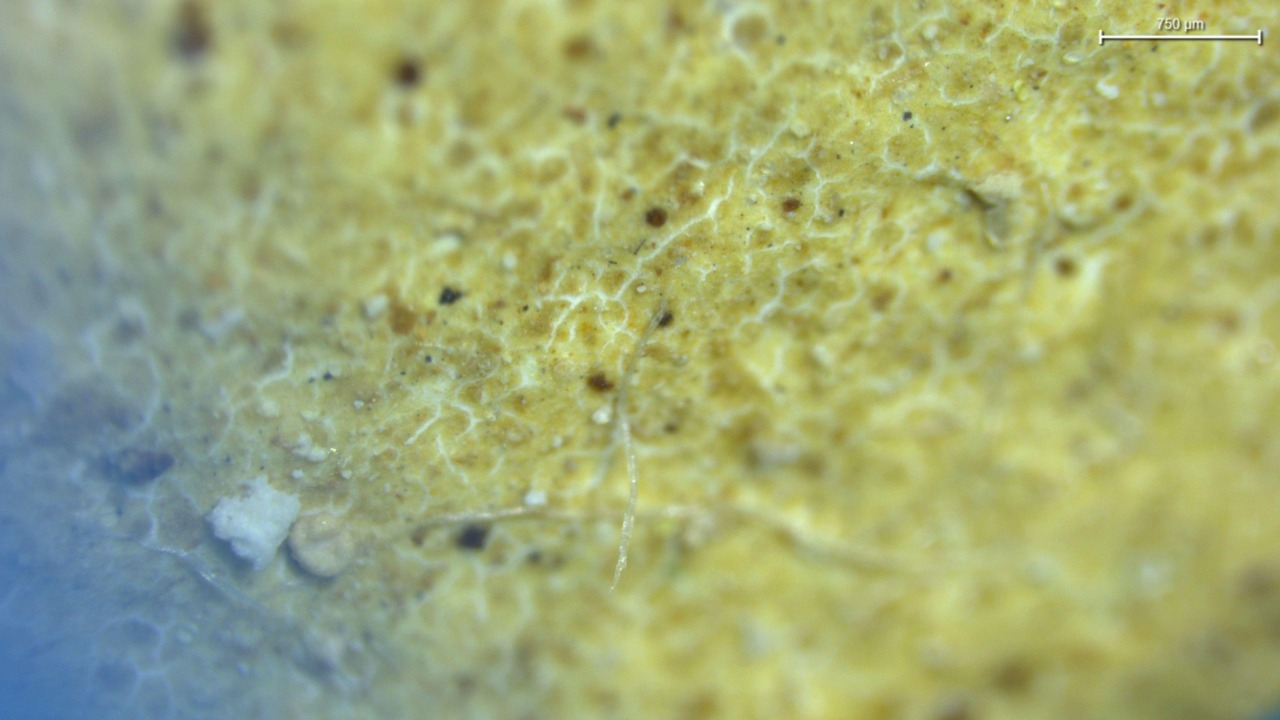microplastic_fragment: (207, 475, 300, 571), (289, 513, 354, 577)
